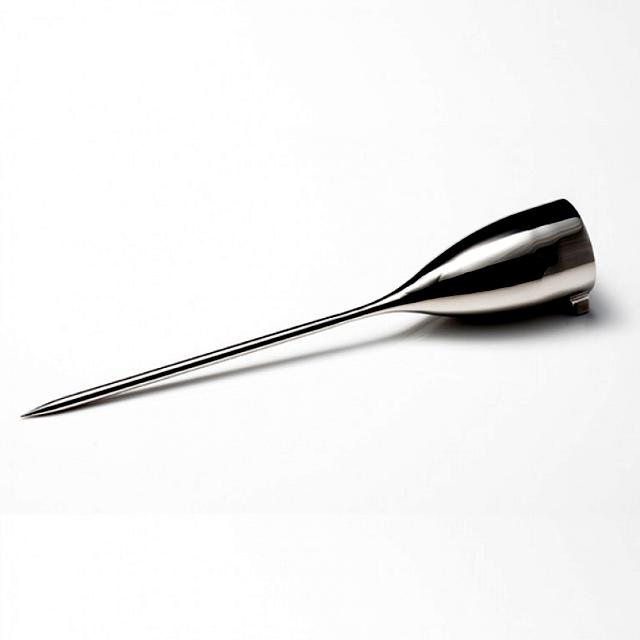ice pick: (21, 196, 597, 420)
